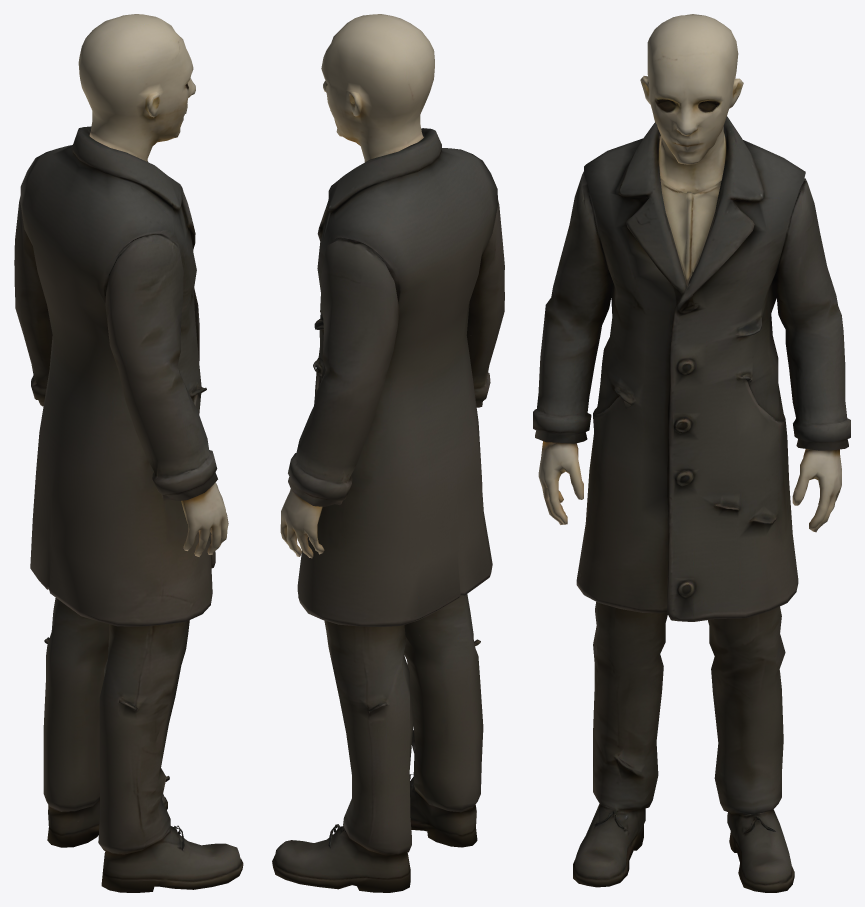
3 views of the same model, side by side, from view 1: azimuth 30°, elevation 25°; view 2: azimuth 150°, elevation 25°; view 3: azimuth 270°, elevation 25° (orthographic).
Visible parts, largest first — view 1: tripo_node_2b8bdcd1-2bf0-4dcc-85a8-c7c72b20bb39; view 2: tripo_node_2b8bdcd1-2bf0-4dcc-85a8-c7c72b20bb39; view 3: tripo_node_2b8bdcd1-2bf0-4dcc-85a8-c7c72b20bb39.
Part boxes in pixels (<box>): tripo_node_2b8bdcd1-2bf0-4dcc-85a8-c7c72b20bb39: <box>14,14,243,892</box>; tripo_node_2b8bdcd1-2bf0-4dcc-85a8-c7c72b20bb39: <box>272,14,504,892</box>; tripo_node_2b8bdcd1-2bf0-4dcc-85a8-c7c72b20bb39: <box>533,14,850,892</box>.
Size of the model in its own units: 0.1934 by 0.998 by 0.3418.
1 material, 1 textured.
